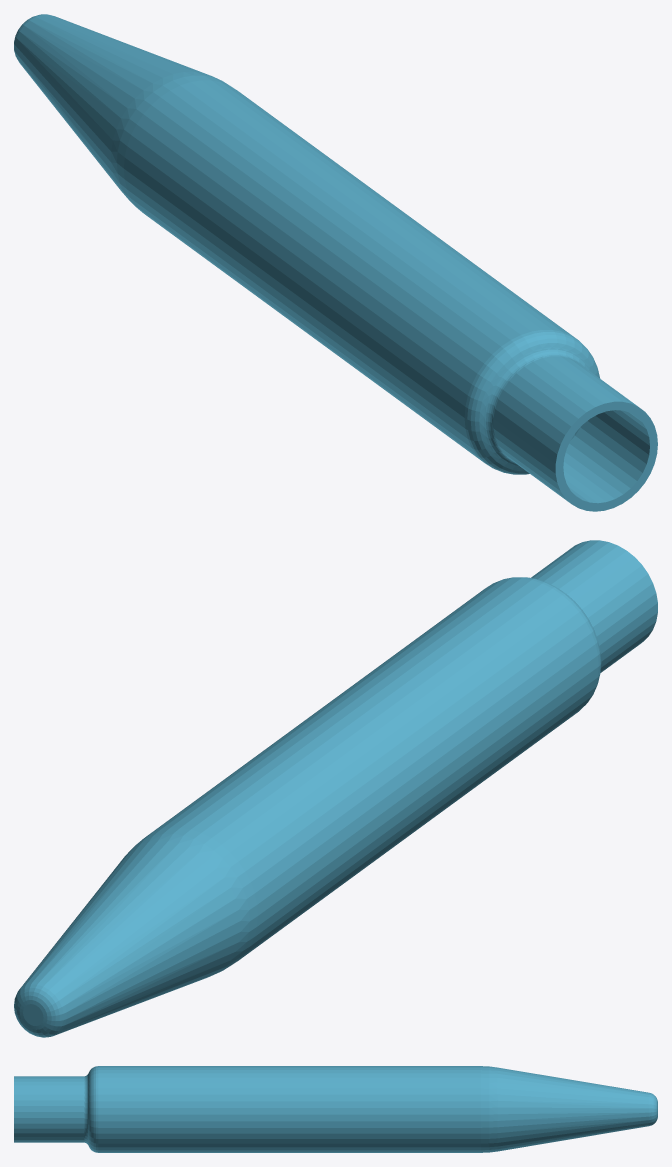
File: body.obj
3 renders of one model, top to bottom at view 1: azimuth 30°, elevation 25°; view 2: azimuth 150°, elevation 25°; view 3: azimuth 270°, elevation 25°, orthographic. The views are drawn at different scales.
Parts seen in each view (by area): view 1: 15mL_c_tube_body; view 2: 15mL_c_tube_body; view 3: 15mL_c_tube_body.
Part boxes in pixels (x1,y1,x2,y2): 15mL_c_tube_body: (14,14,657,511); 15mL_c_tube_body: (14,540,657,1037); 15mL_c_tube_body: (14,1066,657,1152).
Size of the model in its own units: 0.017 by 0.017 by 0.126.
